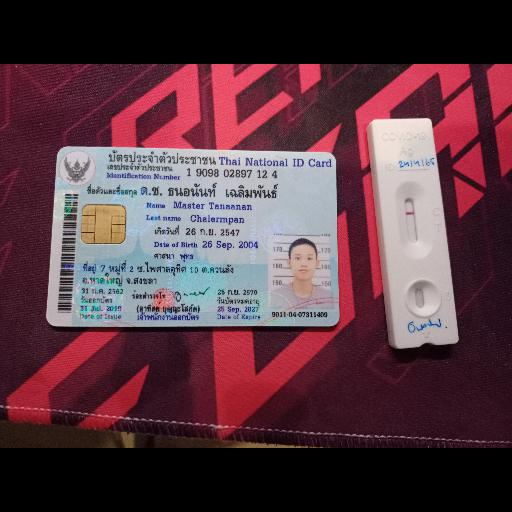Neg: (370, 118, 460, 347)
